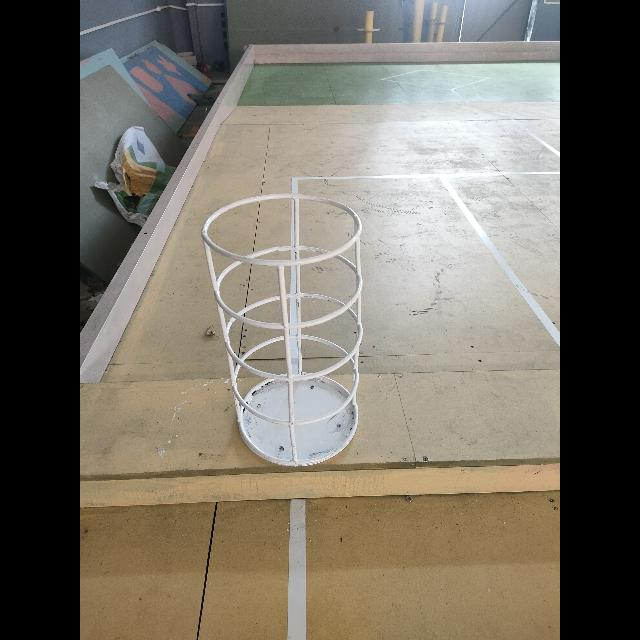S: (198, 191, 365, 471)
